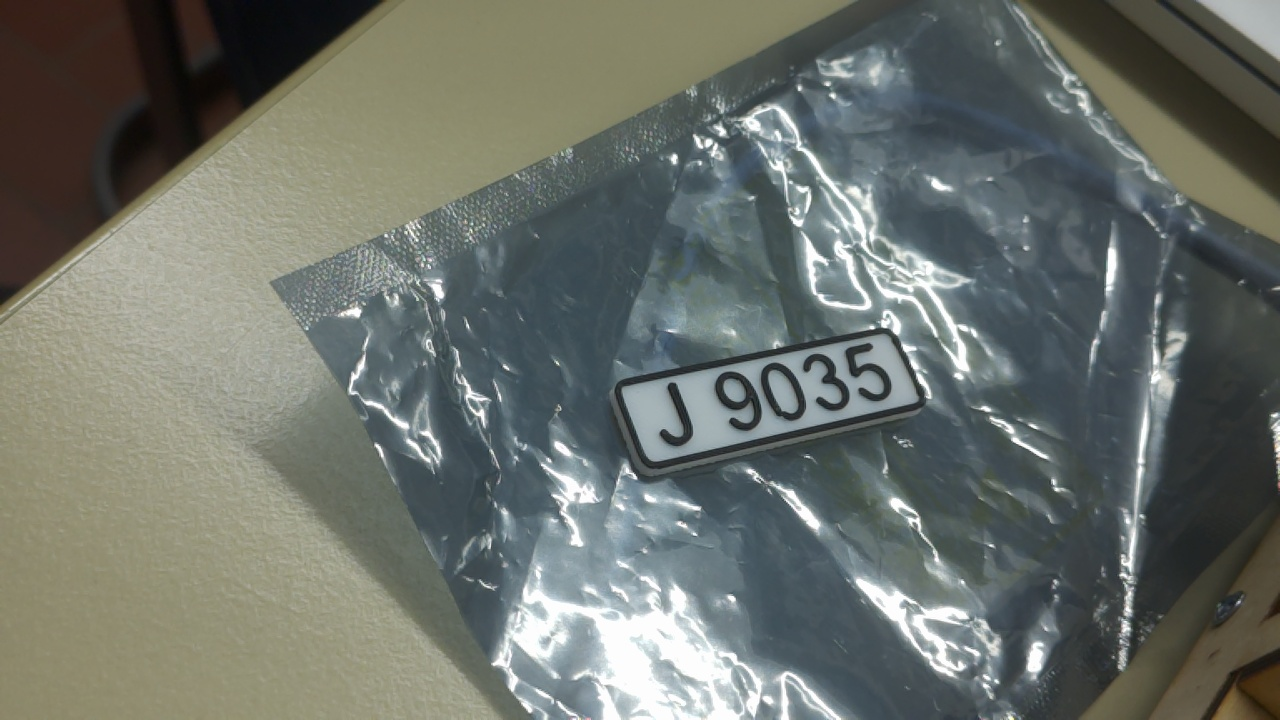license_plate: (602, 320, 941, 487)
